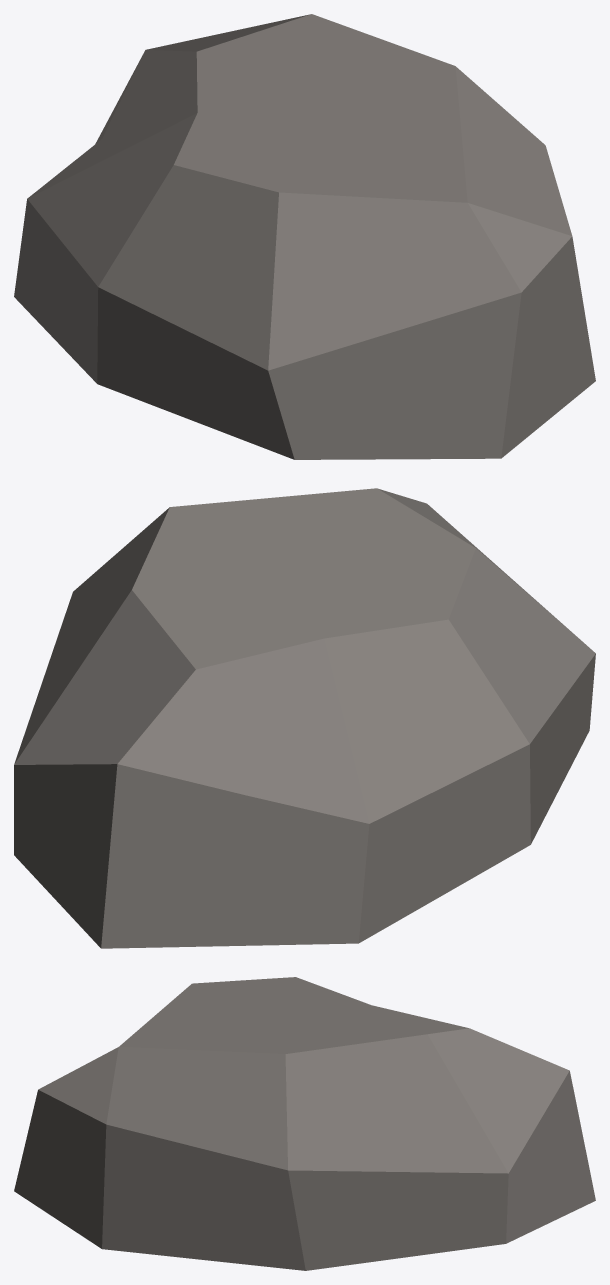
File: Rock_13.fbx
The picture shows the model from 3 angles, top to bottom: view 1: azimuth 30°, elevation 25°; view 2: azimuth 150°, elevation 25°; view 3: azimuth 270°, elevation 25°; orthographic projection. The views are drawn at different scales.
Visible parts, largest first — view 1: Rock_13; view 2: Rock_13; view 3: Rock_13.
Boxes of the visible parts, x1,y1,x2,y2 form: Rock_13: (14, 14, 595, 459); Rock_13: (14, 488, 595, 948); Rock_13: (14, 977, 595, 1270).
Size of the model in its own units: 7.53 by 4.04 by 10.83.
Materials: 1 (1 with a texture image).
